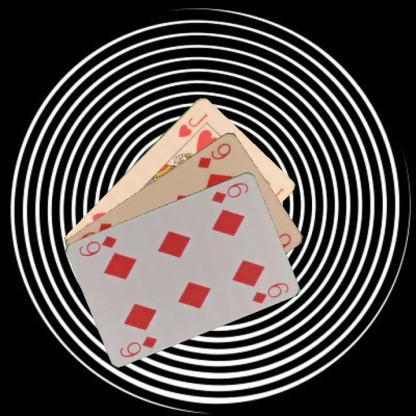6d: (117, 333, 159, 359), (208, 180, 250, 204)
9d: (195, 140, 233, 170)
Jh: (176, 110, 210, 138)
